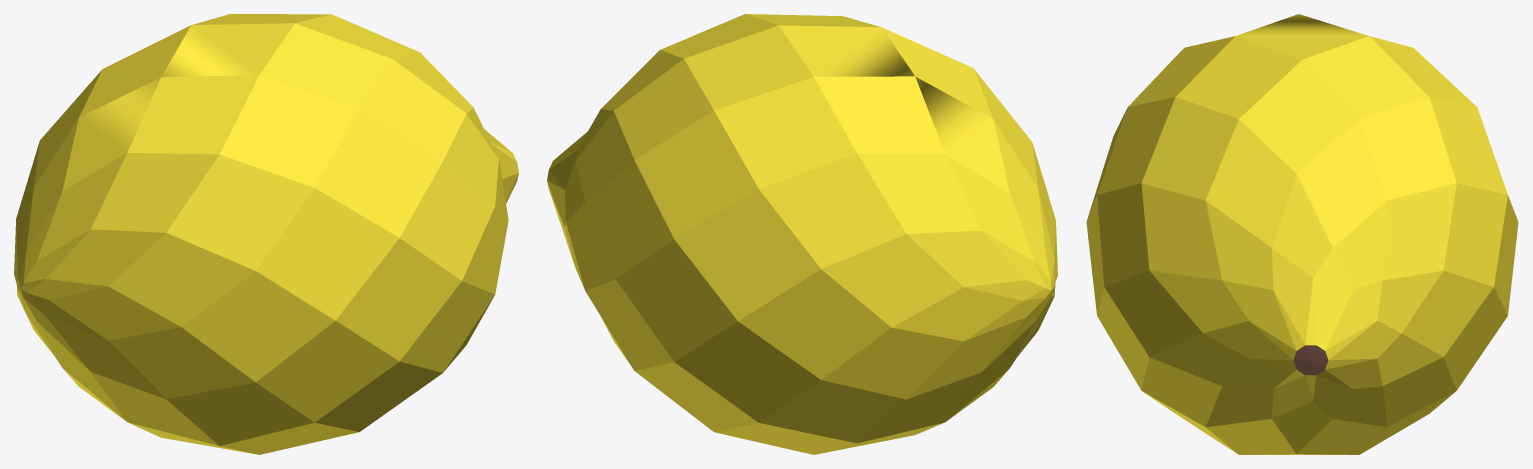
Rendered from Lemon-transformed.glb.
The picture shows the model from 3 angles, left to right: view 1: azimuth 30°, elevation 25°; view 2: azimuth 150°, elevation 25°; view 3: azimuth 270°, elevation 25°; orthographic projection. The views are drawn at different scales.
Visible parts, largest first — view 1: pSphere3; view 2: pSphere3; view 3: pSphere3.
Part boxes in pixels (<box>): pSphere3: <box>14,14,518,454</box>; pSphere3: <box>547,14,1057,454</box>; pSphere3: <box>1086,14,1518,454</box>.
Size of the model in its own units: 318 by 245 by 245.
